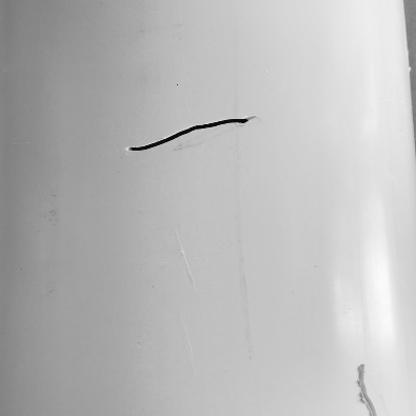fengxi: (124, 116, 255, 155)
sunshang: (356, 363, 379, 416)
